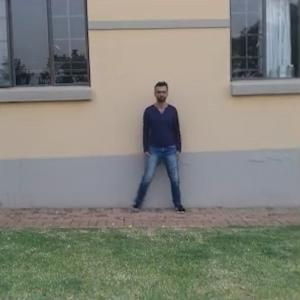follow: (141, 79, 181, 215)
